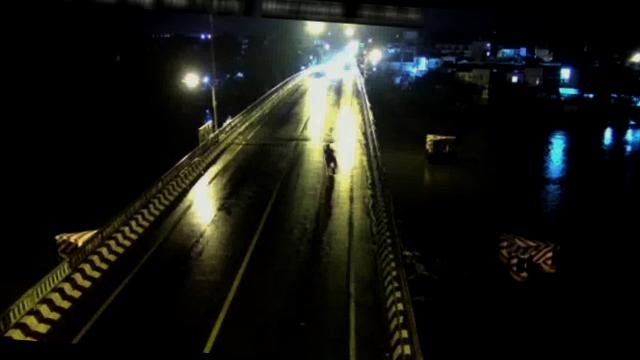Bike: (322, 142, 340, 176)
